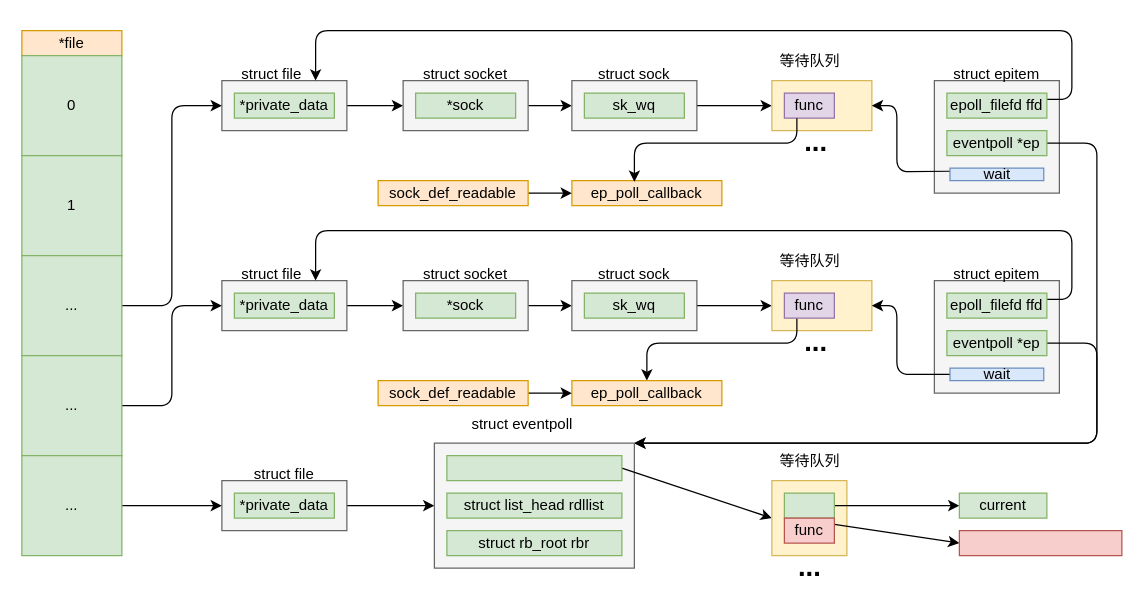
Image size: 1144x615. Some labels were removed from this diagram. The centre of each missing label's shape, as x and y in pixels:
default_wake_function: [1040,542]
private: [808,505]
wait_queue_head_t wq: [534,467]
